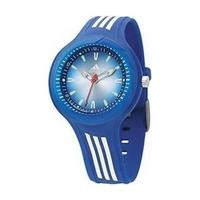watch: (48, 16, 150, 184)
